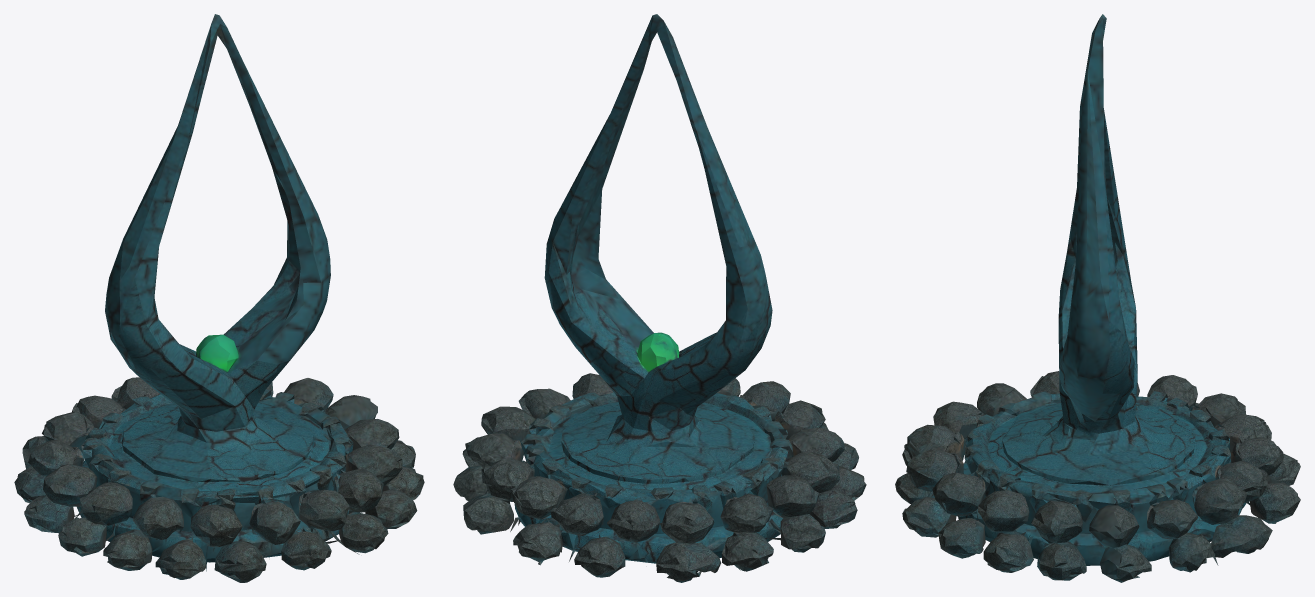
Rendered from fountain_sculpture.glb.
The picture shows the model from 3 angles, left to right: view 1: azimuth 30°, elevation 25°; view 2: azimuth 150°, elevation 25°; view 3: azimuth 270°, elevation 25°; orthographic projection.
Size of the model in its own units: 1.44 by 1.9 by 1.41.
1 material, 1 textured.
